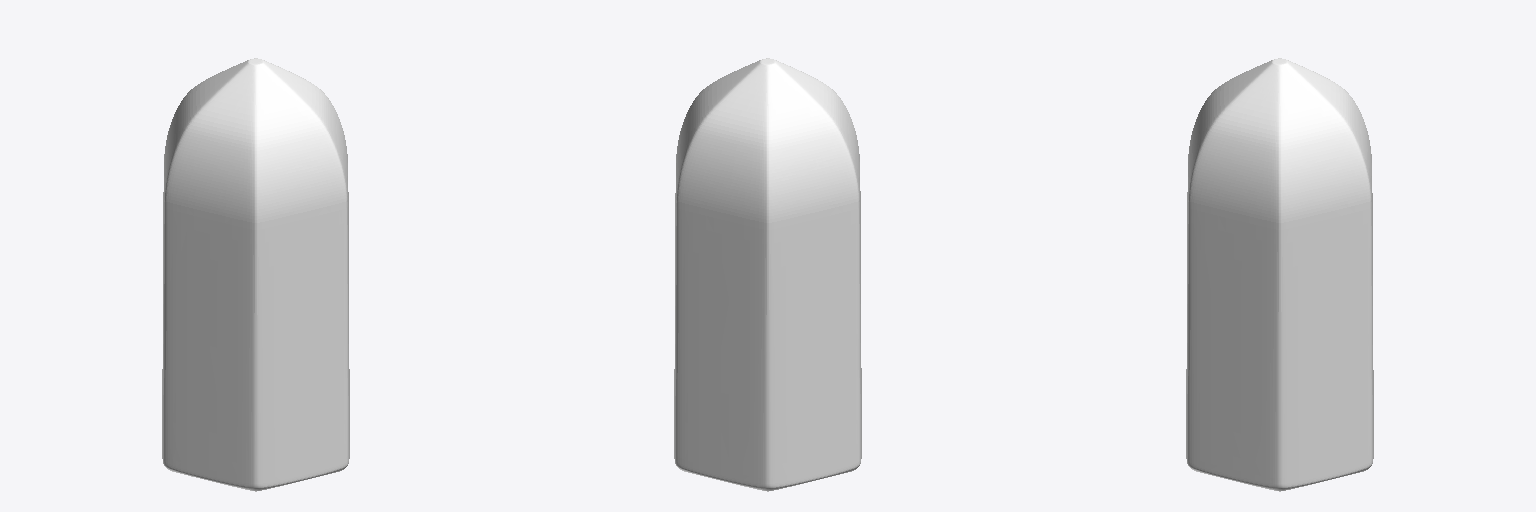
Rendered from 12944_Stone_Chess_Pawn_Side_A_V2_L3.obj.
3 views of the same model, side by side, from view 1: azimuth 30°, elevation 25°; view 2: azimuth 150°, elevation 25°; view 3: azimuth 270°, elevation 25° (orthographic).
Parts seen in each view (by area): view 1: 12944_Stone_Chess_Pawn_Side_A; view 2: 12944_Stone_Chess_Pawn_Side_A; view 3: 12944_Stone_Chess_Pawn_Side_A.
Boxes of the visible parts, box(x1,y1,x2,y2) form: 12944_Stone_Chess_Pawn_Side_A: box(162, 58, 349, 491); 12944_Stone_Chess_Pawn_Side_A: box(674, 58, 861, 491); 12944_Stone_Chess_Pawn_Side_A: box(1186, 58, 1373, 491).
Size of the model in its own units: 2.42 by 4.92 by 2.15.